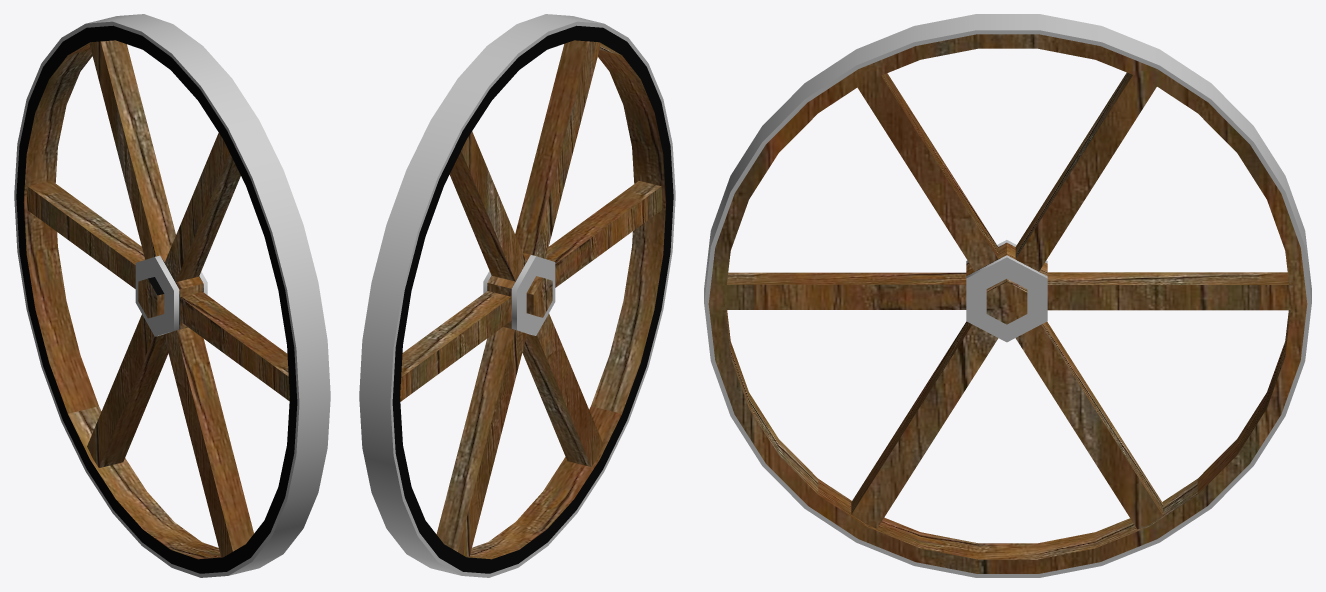
File: Roue.FBX
3 renders of one model, left to right at view 1: azimuth 30°, elevation 25°; view 2: azimuth 150°, elevation 25°; view 3: azimuth 270°, elevation 25°, orthographic. The views are drawn at different scales.
Visible parts, largest first — view 1: Roue; view 2: Roue; view 3: Roue.
Boxes of the visible parts, x1,y1,x2,y2 form: Roue: (14,14,330,577); Roue: (359,14,675,577); Roue: (704,14,1311,577).
Bounding box in the file's own units: 1.37 × 14.18 × 14.26.
